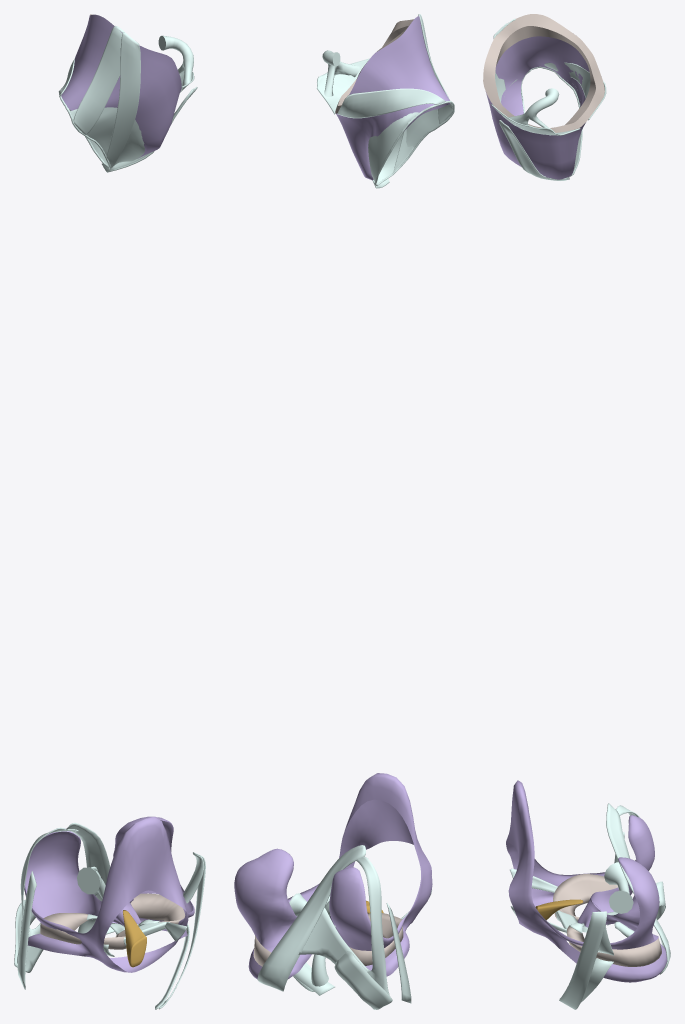
File: joints.glb
The picture shows the model from 3 angles, left to right: view 1: azimuth 30°, elevation 25°; view 2: azimuth 150°, elevation 25°; view 3: azimuth 270°, elevation 25°; orthographic projection. The views are drawn at different scales.
Visible parts, largest first — view 1: Articular capsule of knee joint.r, Articular capsule of hip joint.r, Descending part of iliofemoral ligament.r, Transverse part of iliofemoral ligament.r, Frenula capsulae.r, Lateral meniscus.r, Medial meniscus.r, Oblique popliteal ligament.r, Arcuate popliteal ligament.r, Fibular collateral ligament.r, Infrapatellar fat pad.r, Deep part of tibial collateral ligament.r (+3 smaller); view 2: Articular capsule of knee joint.r, Articular capsule of hip joint.r, Oblique popliteal ligament.r, Arcuate popliteal ligament.r, Frenula capsulae.r, Ischiofemoral ligament.r, Popliteofibular ligament.r, Ligament of head of femur.r, Lateral meniscus.r, Posterior cruciate ligament.r, Fibular collateral ligament.r, Transverse acetabular ligament.r (+1 smaller); view 3: Articular capsule of knee joint.r, Articular capsule of hip joint.r, Acetabular labrum.r, Superficial part of tibial collateral ligament.r, Lateral meniscus.r, Medial meniscus.r, Oblique popliteal ligament.r, Deep part of tibial collateral ligament.r, Pubofemoral ligament.r, Ligament of head of femur.r, Ischiofemoral ligament.r, Anterior cruciate ligament.r (+2 smaller).
Boxes of the visible parts, bbox=[...] form: Articular capsule of knee joint.r: bbox=[24, 816, 194, 972]; Articular capsule of hip joint.r: bbox=[61, 14, 181, 158]; Descending part of iliofemoral ligament.r: bbox=[106, 32, 140, 168]; Transverse part of iliofemoral ligament.r: bbox=[73, 26, 127, 135]; Frenula capsulae.r: bbox=[70, 107, 144, 165]; Lateral meniscus.r: bbox=[40, 913, 126, 949]; Medial meniscus.r: bbox=[130, 893, 185, 924]; Oblique popliteal ligament.r: bbox=[66, 823, 114, 934]; Arcuate popliteal ligament.r: bbox=[17, 827, 97, 972]; Fibular collateral ligament.r: bbox=[17, 871, 36, 989]; Infrapatellar fat pad.r: bbox=[123, 910, 146, 967]; Deep part of tibial collateral ligament.r: bbox=[155, 853, 204, 1009]; Articular capsule of knee joint.r: bbox=[234, 773, 432, 978]; Articular capsule of hip joint.r: bbox=[336, 16, 450, 180]; Oblique popliteal ligament.r: bbox=[257, 845, 365, 991]; Arcuate popliteal ligament.r: bbox=[298, 856, 389, 1009]; Frenula capsulae.r: bbox=[368, 103, 452, 183]; Ischiofemoral ligament.r: bbox=[337, 88, 445, 118]; Popliteofibular ligament.r: bbox=[334, 951, 392, 1009]; Ligament of head of femur.r: bbox=[321, 50, 359, 104]; Lateral meniscus.r: bbox=[349, 913, 403, 965]; Posterior cruciate ligament.r: bbox=[289, 893, 328, 986]; Fibular collateral ligament.r: bbox=[386, 903, 411, 1003]; Transverse acetabular ligament.r: bbox=[316, 58, 369, 114]; Articular capsule of knee joint.r: bbox=[506, 780, 667, 982]; Articular capsule of hip joint.r: bbox=[485, 36, 589, 179]; Acetabular labrum.r: bbox=[483, 14, 604, 132]; Superficial part of tibial collateral ligament.r: bbox=[559, 911, 606, 1009]; Lateral meniscus.r: bbox=[553, 874, 617, 920]; Medial meniscus.r: bbox=[567, 925, 661, 966]; Oblique popliteal ligament.r: bbox=[606, 803, 670, 974]; Deep part of tibial collateral ligament.r: bbox=[560, 925, 613, 1002]; Pubofemoral ligament.r: bbox=[499, 120, 569, 180]; Ligament of head of femur.r: bbox=[508, 88, 566, 135]; Ischiofemoral ligament.r: bbox=[544, 62, 606, 120]; Anterior cruciate ligament.r: bbox=[581, 862, 629, 932].
Bounding box in the file's own units: 0.0889 × 0.4973 × 0.0882.
